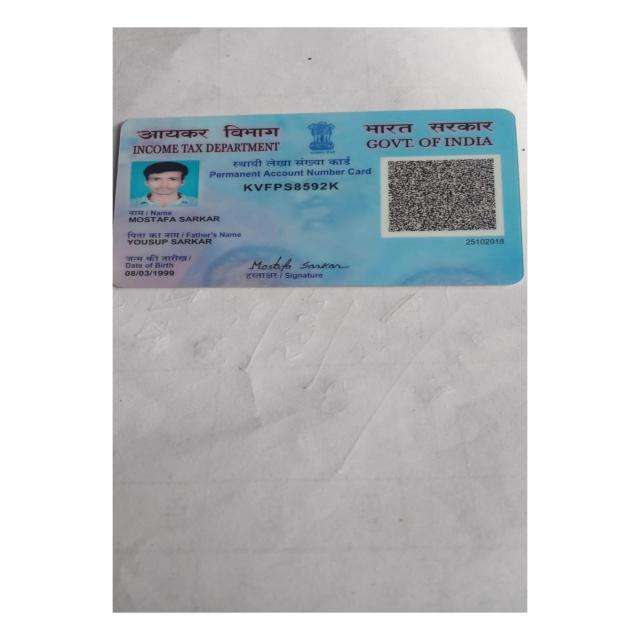pan_card: (114, 111, 520, 284)
